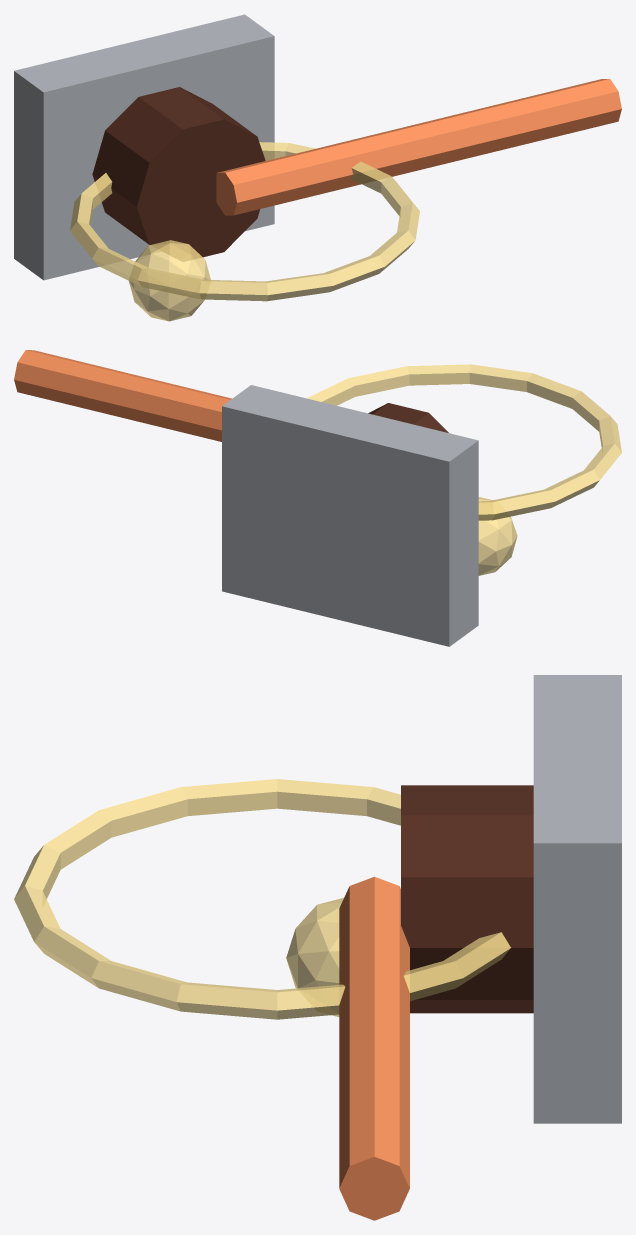
Rendered from 09_skyship_defense.glb.
3 views of the same model, one above another, from view 1: azimuth 30°, elevation 25°; view 2: azimuth 150°, elevation 25°; view 3: azimuth 270°, elevation 25° (orthographic). The views are drawn at different scales.
Parts seen in each view (by area): view 1: weapon_mount_base, turret_pivot, cannon_barrel, shield_projector_ring, targeting_core; view 2: weapon_mount_base, shield_projector_ring, cannon_barrel, targeting_core, turret_pivot; view 3: weapon_mount_base, turret_pivot, shield_projector_ring, cannon_barrel, targeting_core.
Part boxes in pixels (x1=…): weapon_mount_base: x1=14, y1=14, x2=274, y2=280; turret_pivot: x1=92, y1=87, x2=265, y2=261; cannon_barrel: x1=216, y1=79, x2=621, y2=215; shield_projector_ring: x1=70, y1=142, x2=419, y2=301; targeting_core: x1=129, y1=240, x2=210, y2=321; weapon_mount_base: x1=222, y1=385, x2=478, y2=646; shield_projector_ring: x1=307, y1=364, x2=621, y2=520; cannon_barrel: x1=14, y1=350, x2=231, y2=441; targeting_core: x1=478, y1=497, x2=517, y2=575; turret_pivot: x1=368, y1=403, x2=448, y2=432; weapon_mount_base: x1=533, y1=675, x2=621, y2=1123; turret_pivot: x1=401, y1=785, x2=533, y2=1013; shield_projector_ring: x1=14, y1=779, x2=510, y2=1019; cannon_barrel: x1=339, y1=876, x2=409, y2=1220; targeting_core: x1=286, y1=898, x2=343, y2=1016.
Size of the model in its own units: 1.39 by 0.4745 by 0.8944.
